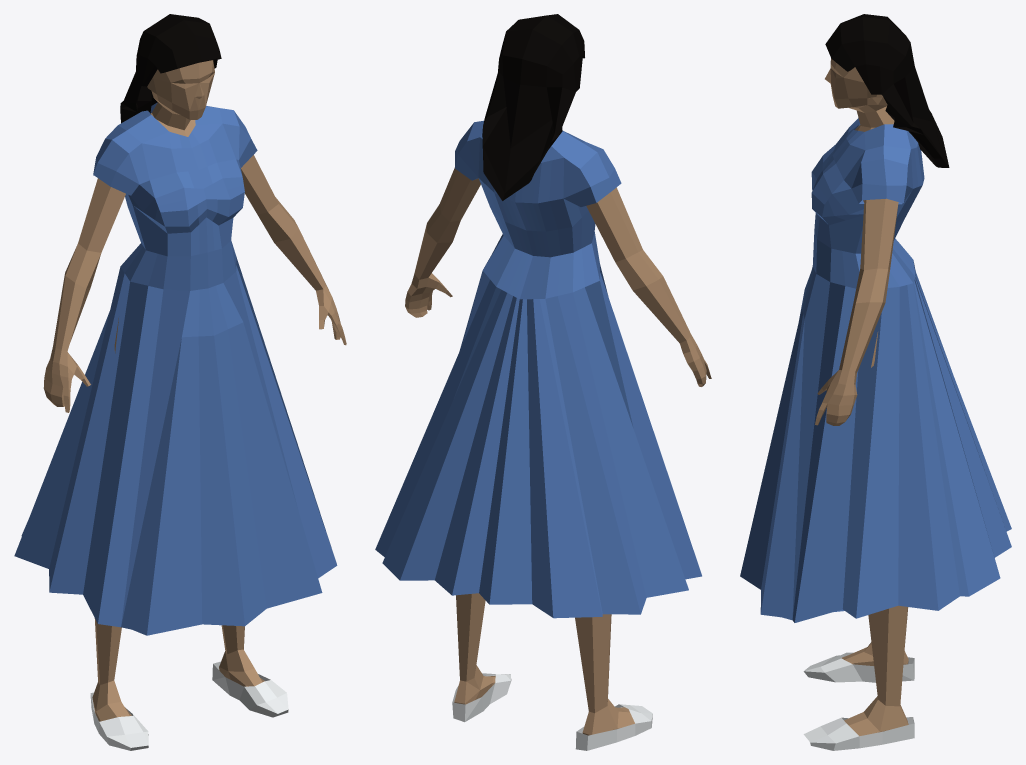
The model's file is girl1.fbx.
The picture shows the model from 3 angles, left to right: view 1: azimuth 30°, elevation 25°; view 2: azimuth 150°, elevation 25°; view 3: azimuth 270°, elevation 25°; orthographic projection.
Visible parts, largest first — view 1: female.002; view 2: female.002; view 3: female.002.
Boxes of the visible parts, x1,y1,x2,y2 form: female.002: (14,14,346,750); female.002: (375,14,711,750); female.002: (740,14,1011,750).
Size of the model in its own units: 149 by 339 by 121.
